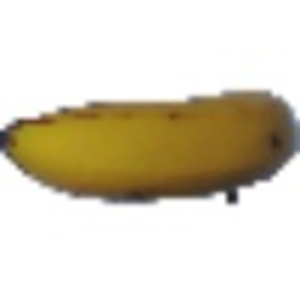banana: (2, 87, 297, 202)
